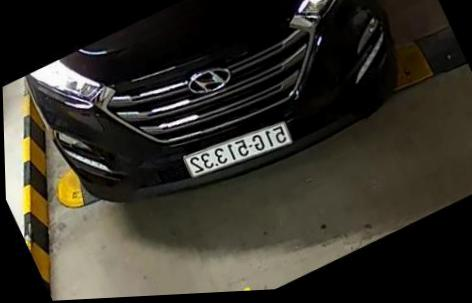License_Plate: (184, 115, 295, 188)
